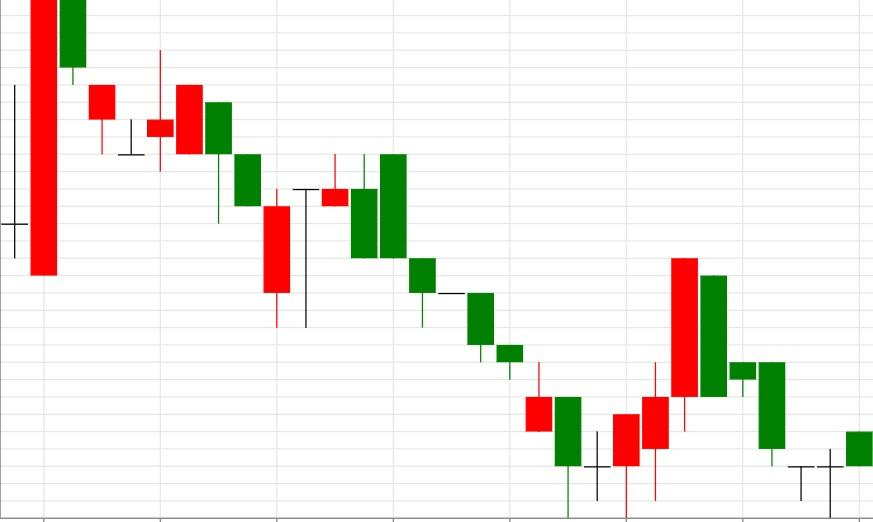bearish_engulfing_fall: (263, 155, 379, 327)
morning_star_rise: (379, 153, 641, 519)
